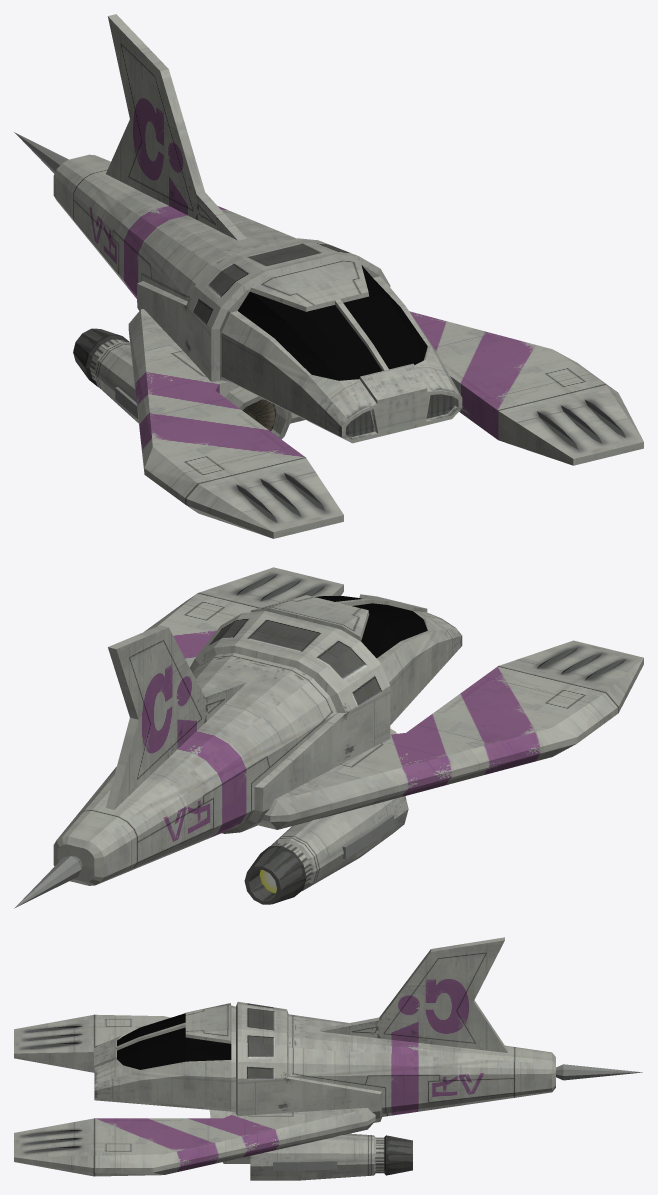
The model's file is Phoebos.obj.
3 renders of one model, top to bottom at view 1: azimuth 30°, elevation 25°; view 2: azimuth 150°, elevation 25°; view 3: azimuth 270°, elevation 25°, orthographic. The views are drawn at different scales.
Parts seen in each view (by area): view 1: Box01; view 2: Box01; view 3: Box01.
Part boxes in pixels (box(x1,y1,x2,y2)): Box01: box(14, 14, 643, 538); Box01: box(14, 567, 643, 908); Box01: box(14, 937, 642, 1180).
Bounding box in the file's own units: 137 × 89.78 × 244.
